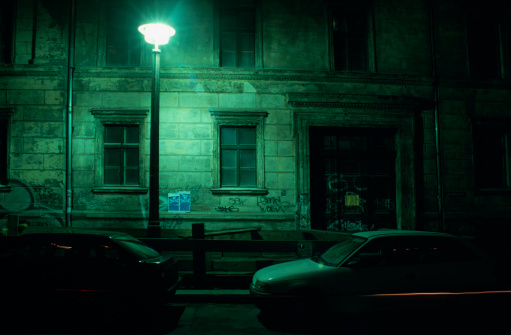car: (245, 224, 506, 326)
